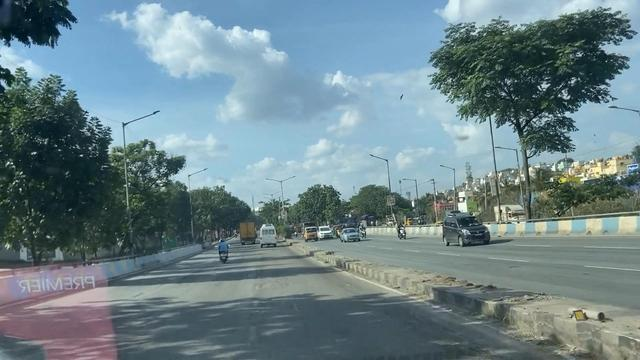HMV: (259, 225, 286, 256), (238, 223, 257, 247)
LMV: (216, 237, 233, 267)
RoadDamages: (377, 326, 513, 360), (247, 273, 290, 302), (282, 304, 319, 335)
